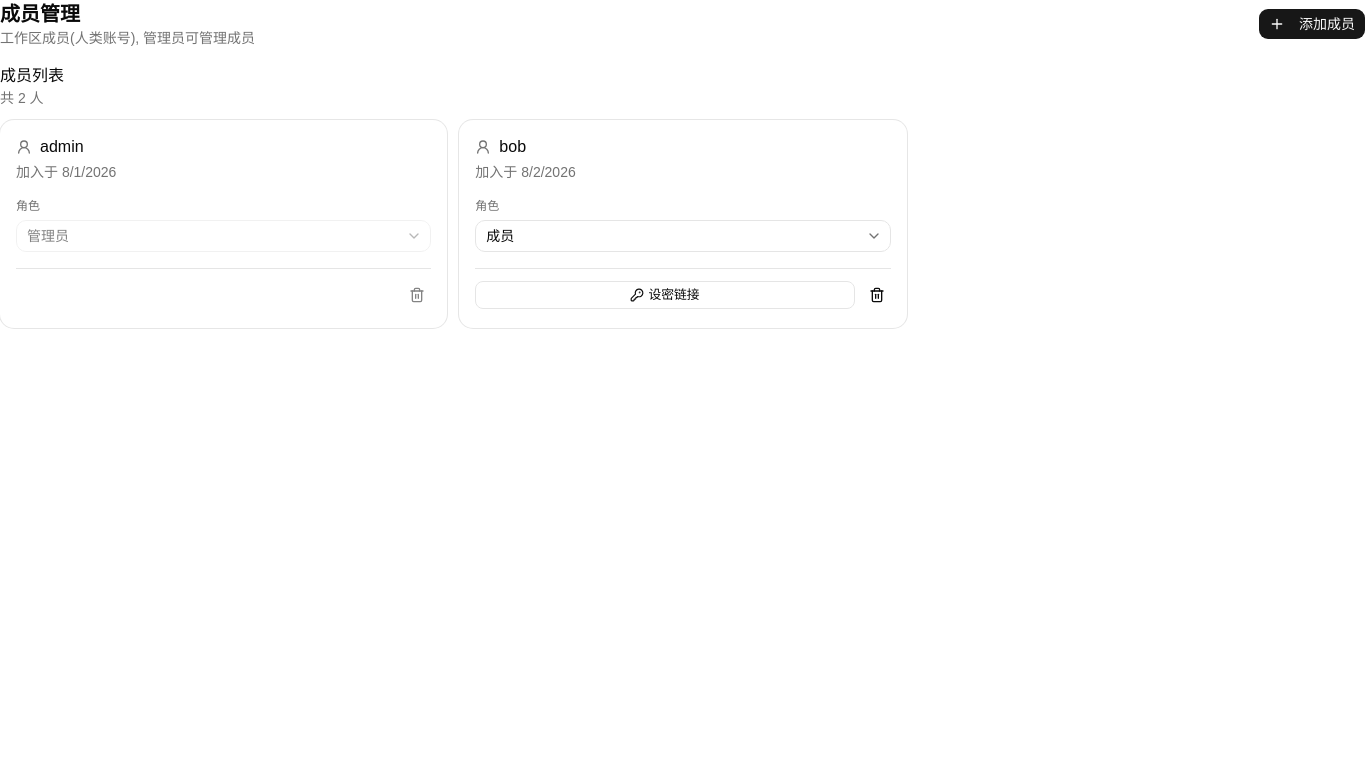
Test case: MembersPage 成员列表渲染 › 创建成员后仅在弹窗展示可复制的设密链接
Click the button "添加成员".
click(1312, 24)  # box 1258,8 -> 1365,40
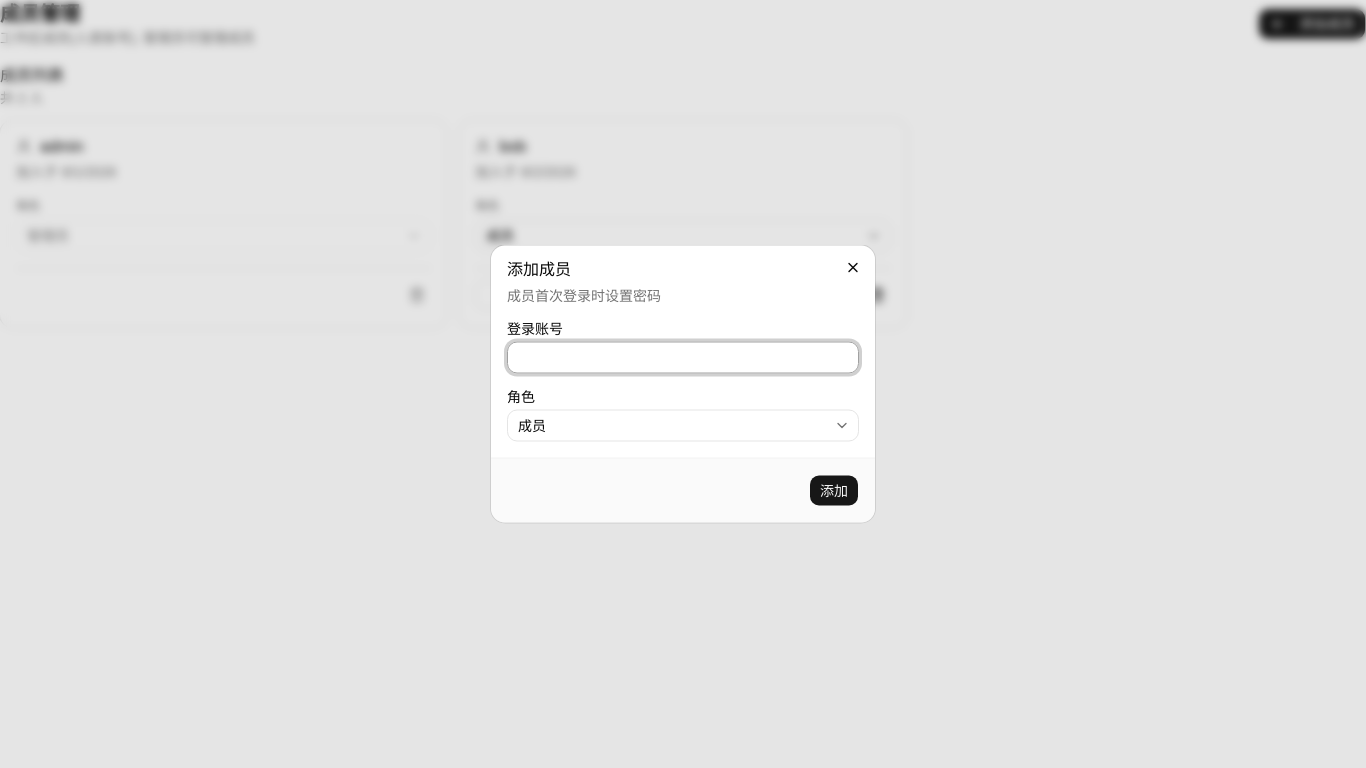
Type "carol" into the field labelled "登录账号".
click(683, 358); type("carol")  # box 507,342 -> 859,374
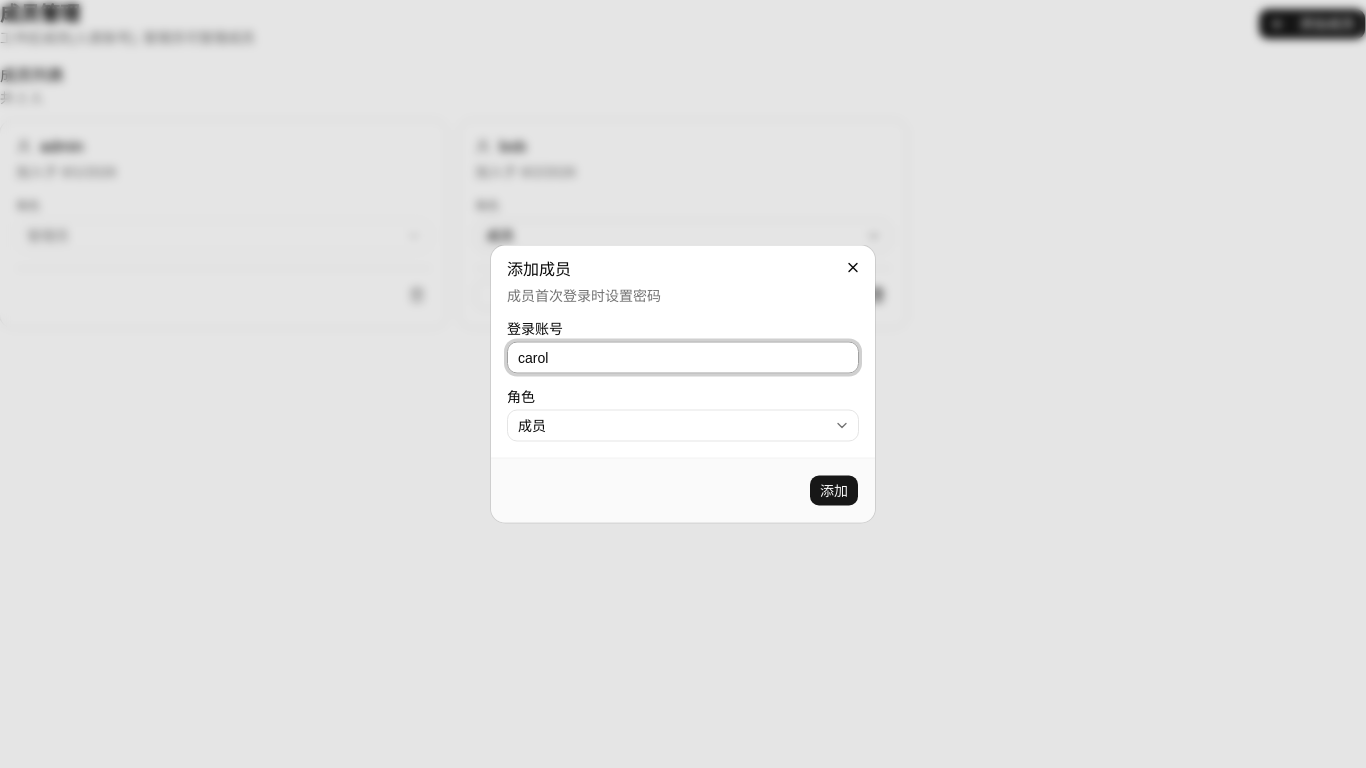
Click the button "添加".
click(834, 490)  # box 809,474 -> 859,506
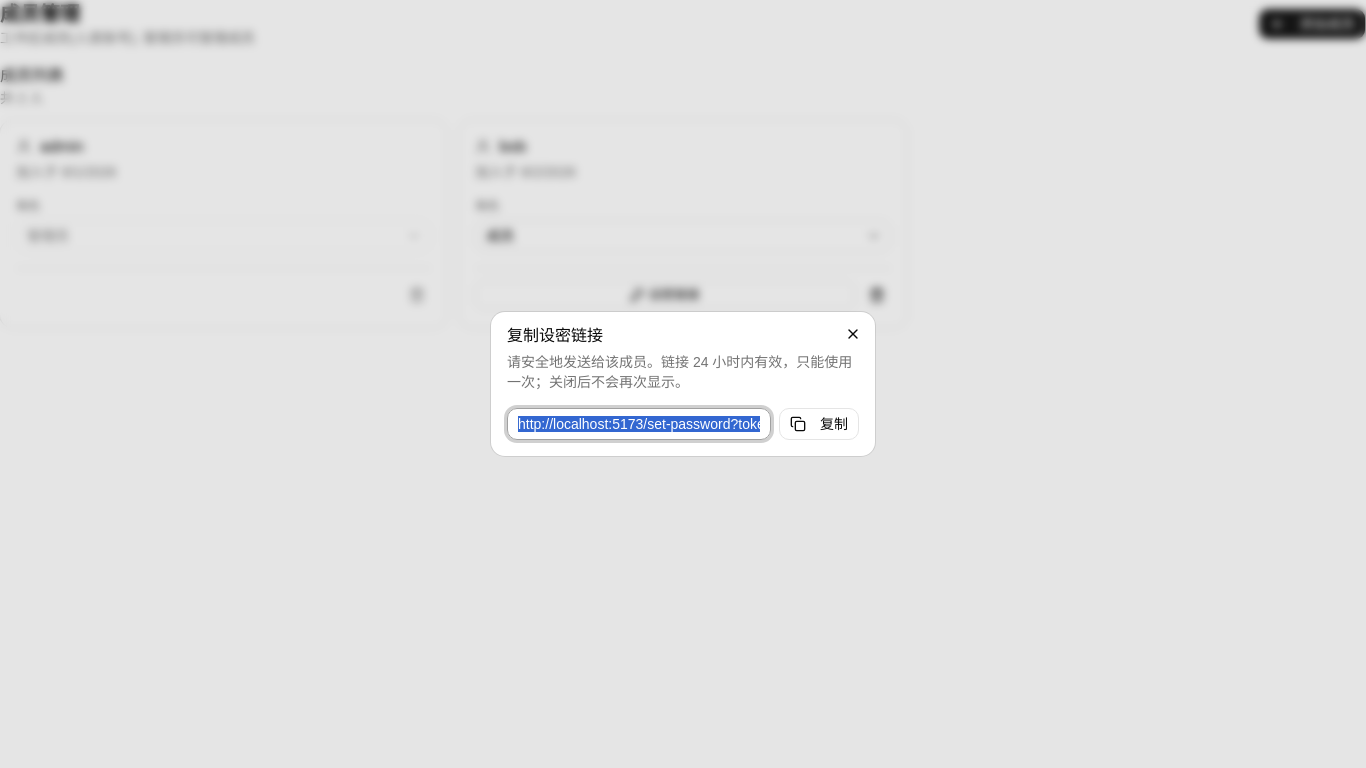
Check: the field named "设密链接" holds "http://localhost:5173/set-password?token=one-time-token", box 507,408 -> 771,440
Check: the button "复制" is shown, box 779,408 -> 859,440
